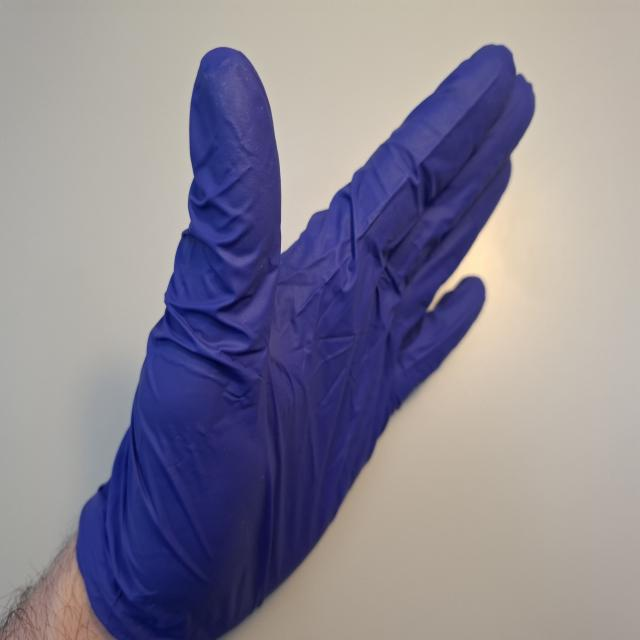glove_on: (74, 40, 541, 638)
